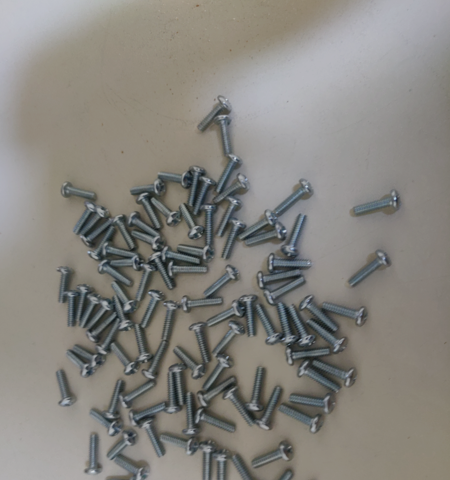shortscrew: (274, 178, 315, 216), (349, 250, 391, 287), (307, 318, 349, 355), (297, 360, 342, 393), (300, 297, 341, 332), (313, 358, 359, 387), (280, 405, 325, 434), (224, 385, 255, 427), (198, 96, 233, 133), (213, 321, 246, 359), (251, 442, 295, 470), (353, 191, 400, 217), (321, 302, 369, 327), (265, 277, 306, 306), (202, 354, 234, 391), (198, 377, 237, 407), (204, 265, 240, 297), (255, 387, 281, 431), (256, 304, 283, 346), (213, 174, 250, 204), (240, 210, 277, 240), (215, 154, 242, 195), (289, 305, 315, 347), (149, 251, 176, 291), (282, 214, 306, 258), (246, 220, 288, 245), (107, 430, 139, 462), (276, 302, 299, 346), (88, 225, 116, 261), (195, 409, 237, 433), (222, 218, 246, 260), (142, 342, 168, 380), (139, 417, 164, 456), (189, 322, 212, 364), (179, 203, 205, 240), (83, 218, 115, 248), (98, 260, 134, 286), (87, 313, 118, 343), (80, 206, 109, 238), (150, 198, 182, 227), (86, 298, 115, 330), (112, 214, 137, 251), (90, 409, 123, 437), (111, 343, 139, 376), (267, 253, 313, 273), (290, 395, 336, 415), (141, 290, 164, 330), (218, 197, 241, 237), (129, 402, 165, 427), (137, 192, 161, 229), (245, 368, 265, 412), (258, 269, 302, 289), (136, 262, 158, 302), (115, 455, 149, 480), (214, 115, 234, 157), (187, 166, 207, 208), (103, 380, 124, 420), (160, 434, 198, 456), (73, 344, 105, 370), (169, 363, 188, 406), (240, 294, 259, 337), (285, 349, 333, 366), (66, 350, 95, 378), (231, 454, 262, 480), (161, 301, 181, 341), (128, 212, 160, 237), (134, 323, 153, 364), (165, 371, 183, 414), (84, 434, 102, 476), (183, 393, 201, 435), (75, 201, 97, 235), (80, 294, 102, 328), (61, 181, 98, 201), (56, 370, 76, 407), (181, 296, 224, 313), (167, 261, 209, 278), (178, 244, 215, 263), (199, 440, 216, 480), (158, 171, 193, 190), (213, 449, 234, 480), (130, 180, 166, 198), (76, 285, 93, 323), (133, 231, 165, 251), (58, 267, 73, 304), (65, 291, 79, 327), (259, 470, 295, 480), (105, 477, 142, 480)
